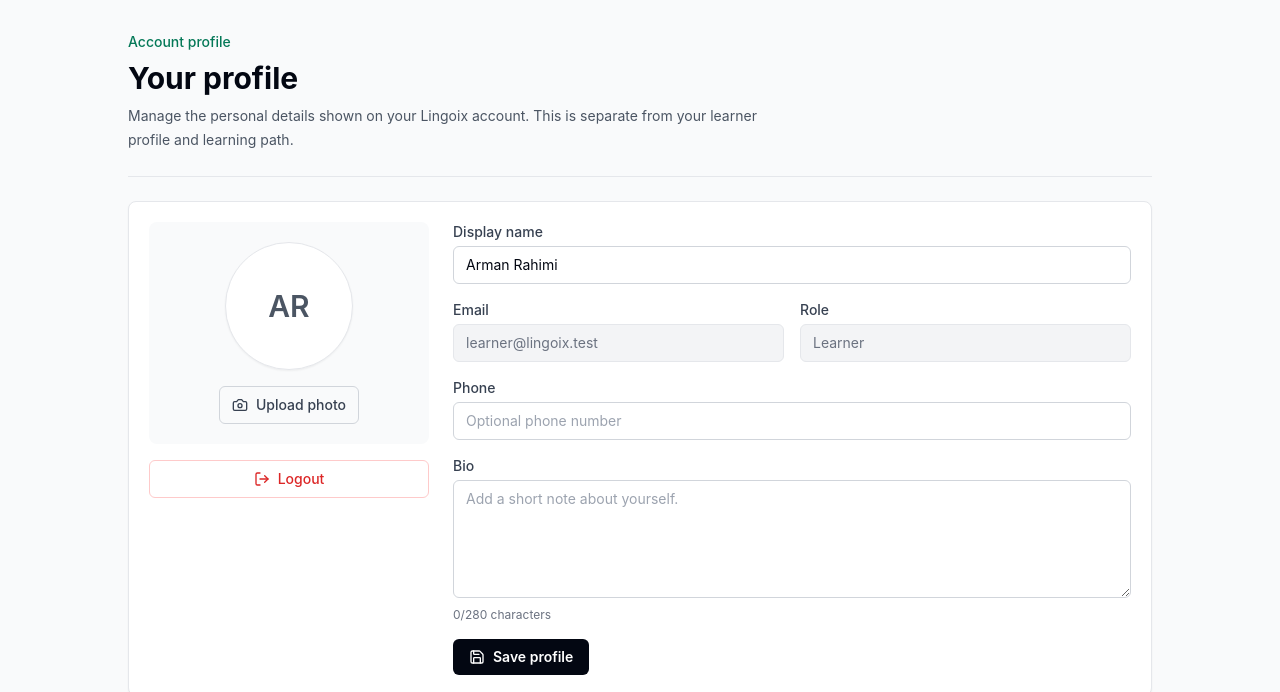
Scenario: blocks saving when display name is too short
This screenshot has width=1280, height=692.
Replace the text in the field labelled "Display name" with "A": coordinates (792, 265) 453,246 -> 1131,284
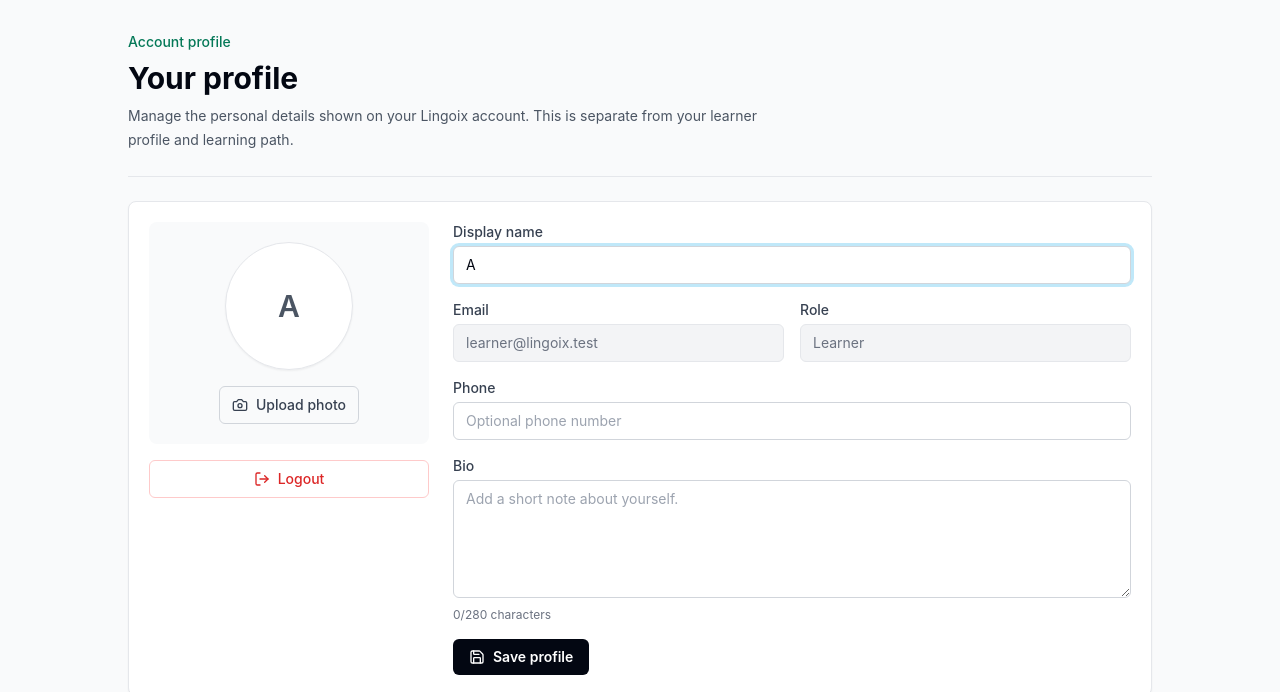
Click the button "Save profile": coordinates (521, 657) 453,639 -> 589,675
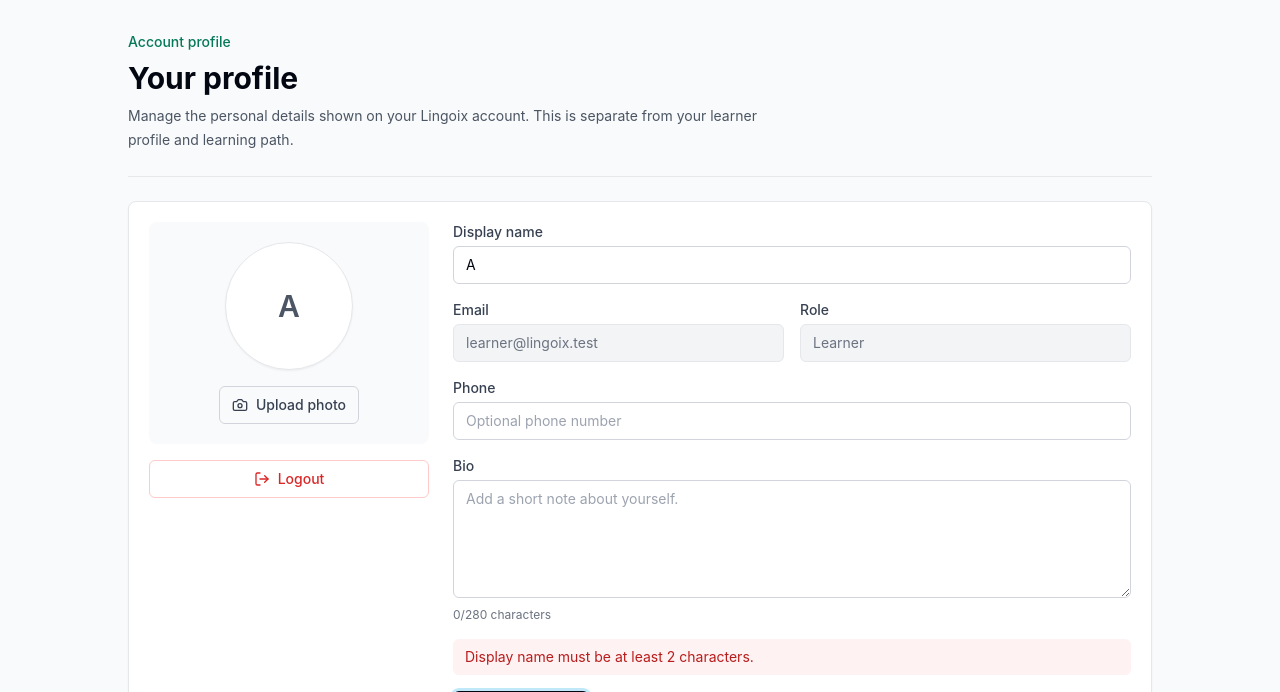
Result: the message reads "Display name must be at least 2 characters." at 465,648 -> 754,665
